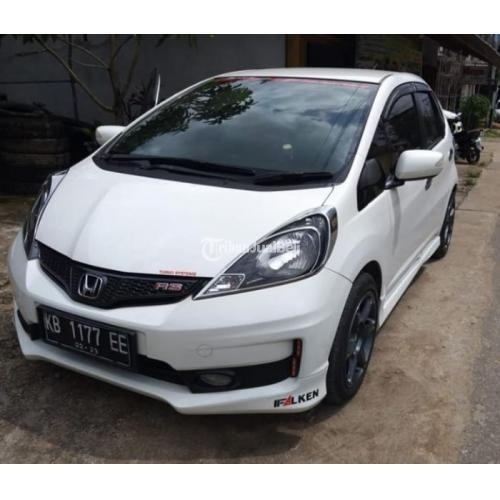plate: (40, 304, 132, 369)
